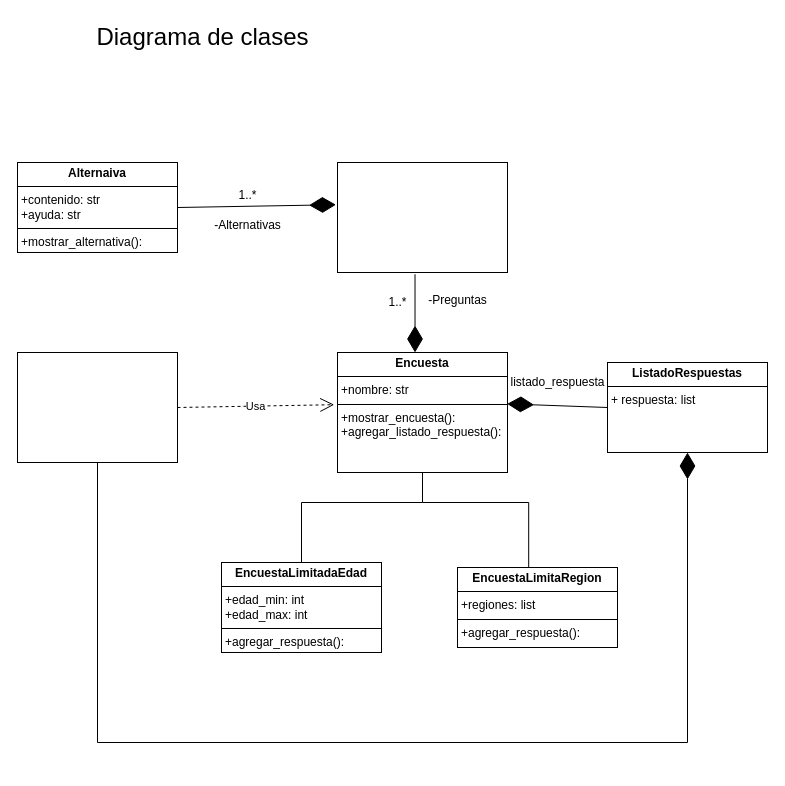
Image size: 785x786. Some labels were removed from this diagram. Here are the shapes that lost their labels. From the top down, the box of each, then its label:
(336, 162, 508, 272): Pregunta +enunciado: str +ayuda: str +requeridos: bool +mostrar_pregunta():
(16, 352, 178, 462): Usuario + correo: str + edad: int + region: int +contestar_encuesta():
